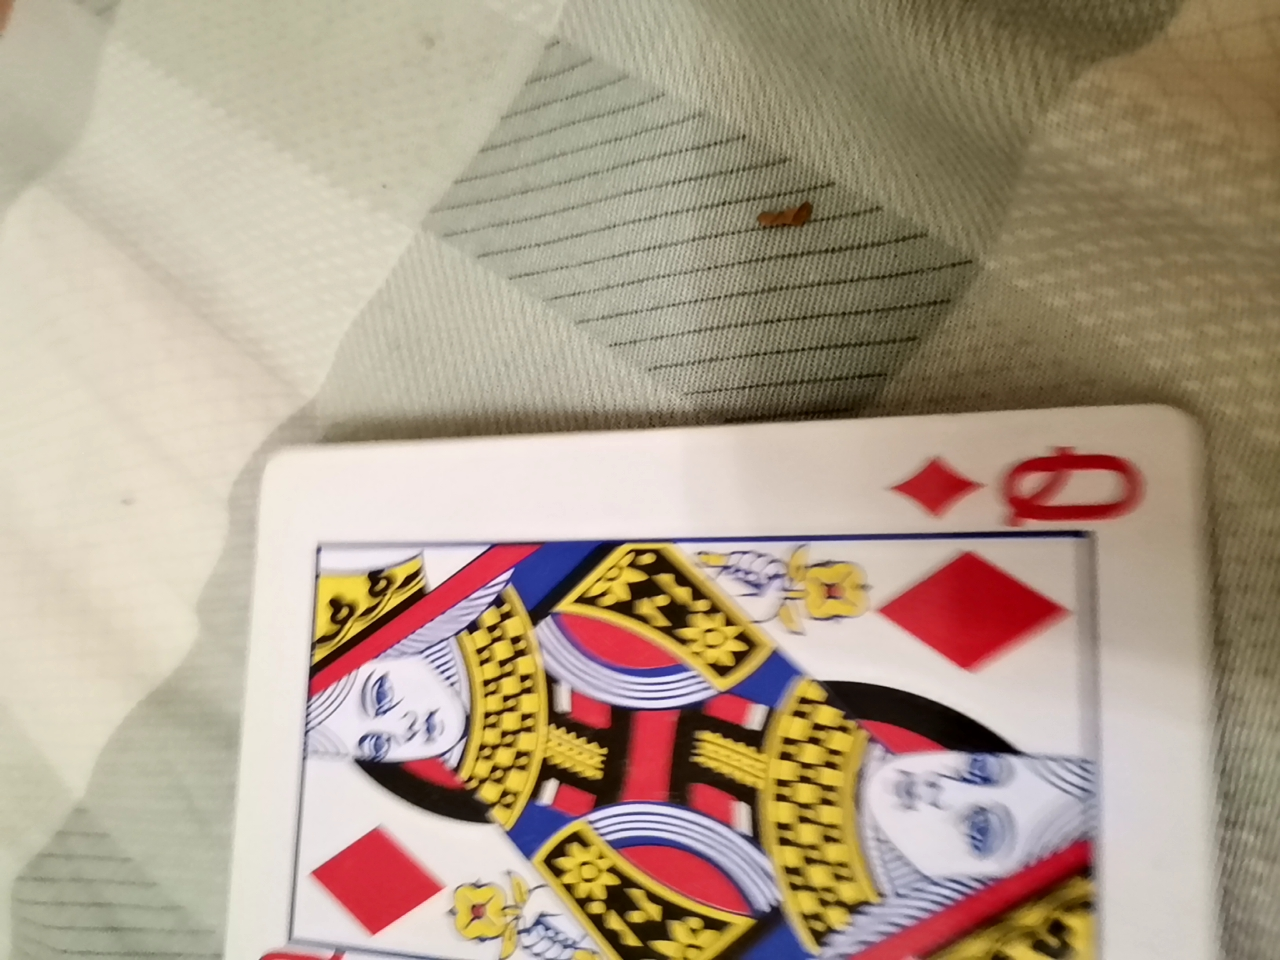fk q: (241, 407, 1238, 958)
